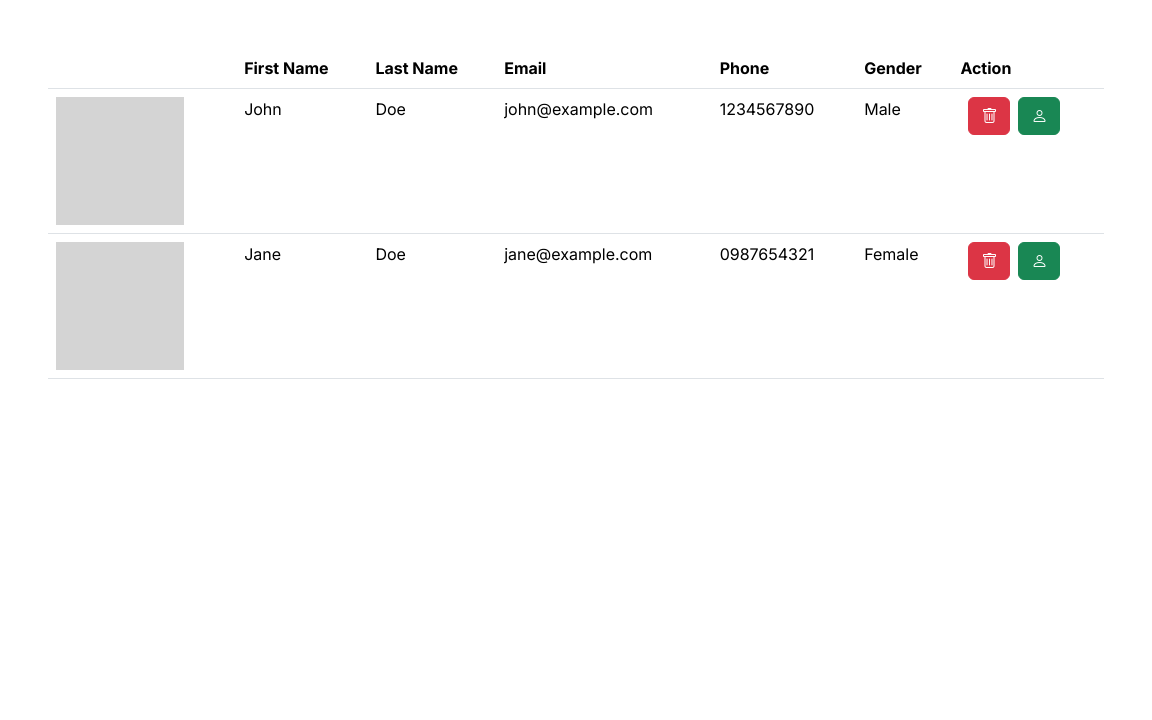
Test case: EmployeeTable component › opens the delete modal when delete button is clicked
The image size is (1152, 720).
Simulate clicking the delete button
Click the button without text in the row of "john@example.com" at [989, 116], box [968,97,1010,135]
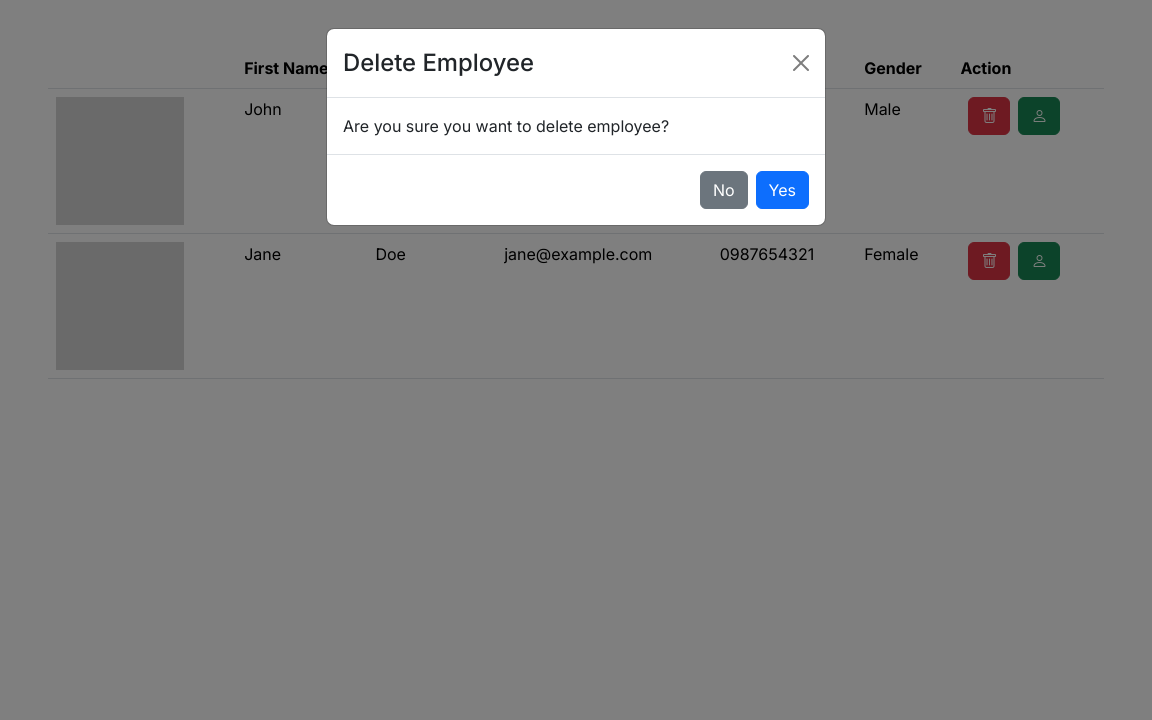
Check: the text "Delete Employee" is shown, box [343,45,534,81]
Check: the text "Are you sure you want to delete employee?" is shown, box [343,116,669,136]
